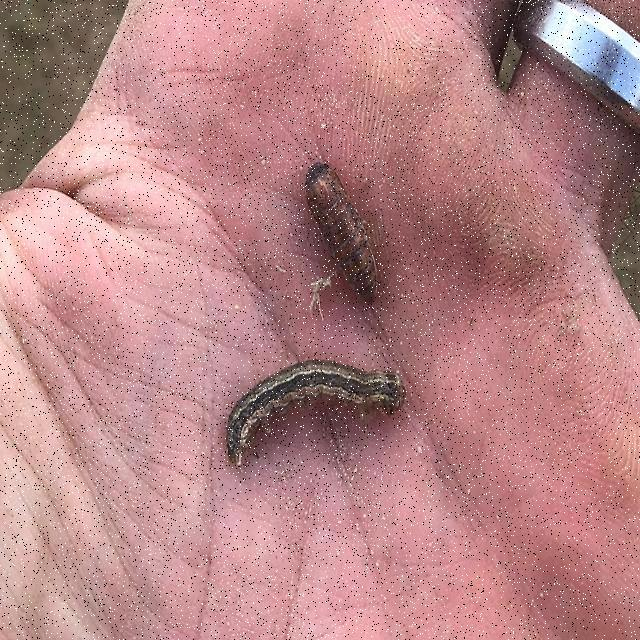army worm: (192, 328, 447, 494), (273, 160, 414, 362)
